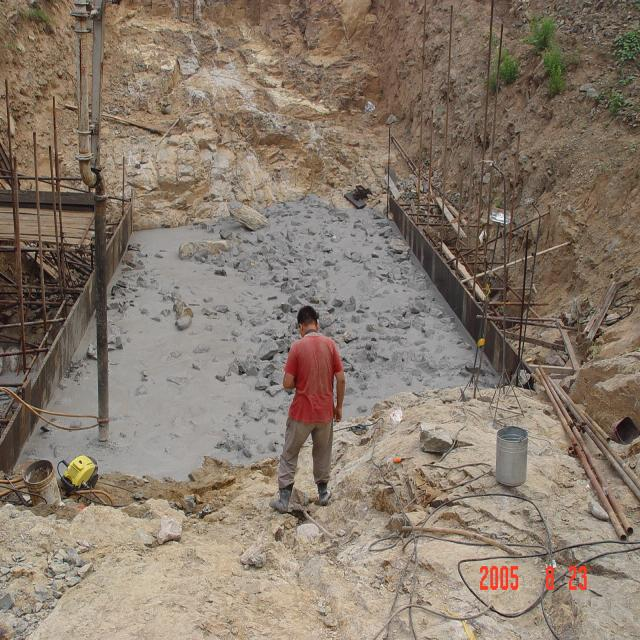truck: (69, 0, 121, 441)
